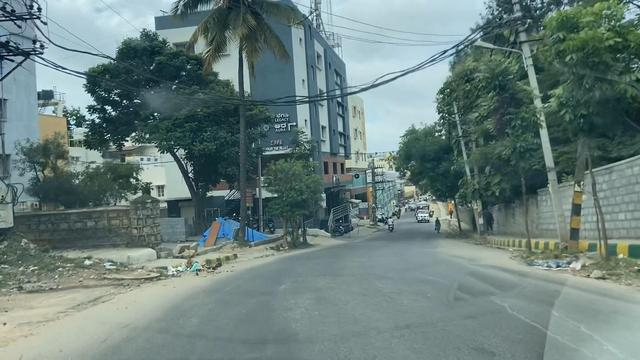RoadDamages: (475, 275, 629, 360)
